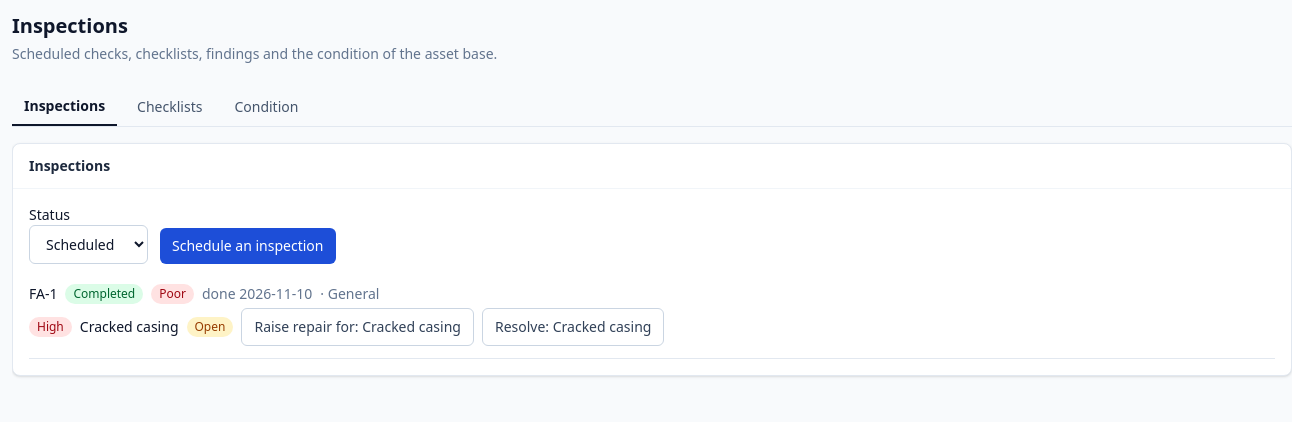
it: InspectionsPage › raises a repair from an open finding and shows a server refusal
This screenshot has width=1292, height=422.
Click the button "Raise repair for: Cracked casing" at (358, 327), box [241,308,474,346]
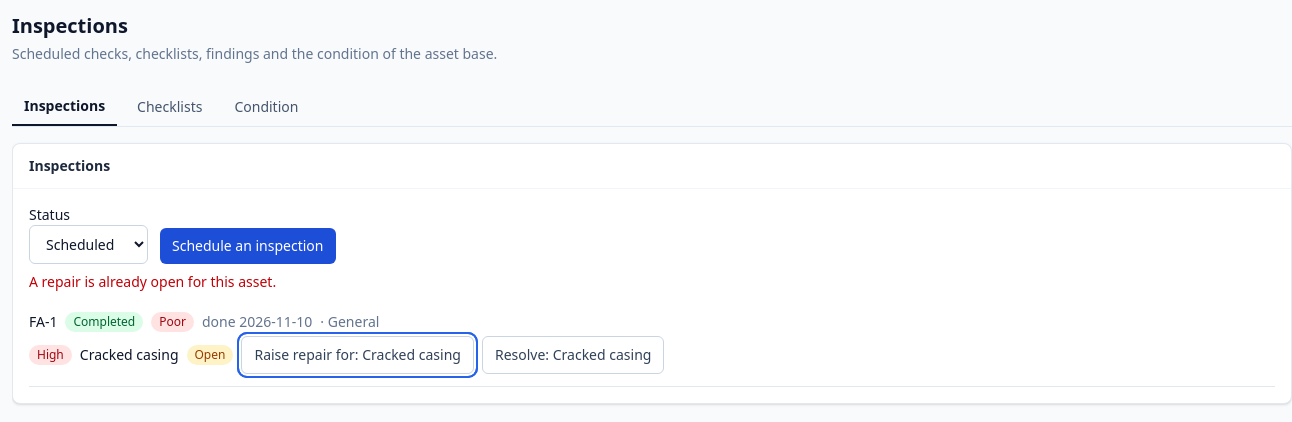
Result: the message shows "already open" at [29,272,276,291]
